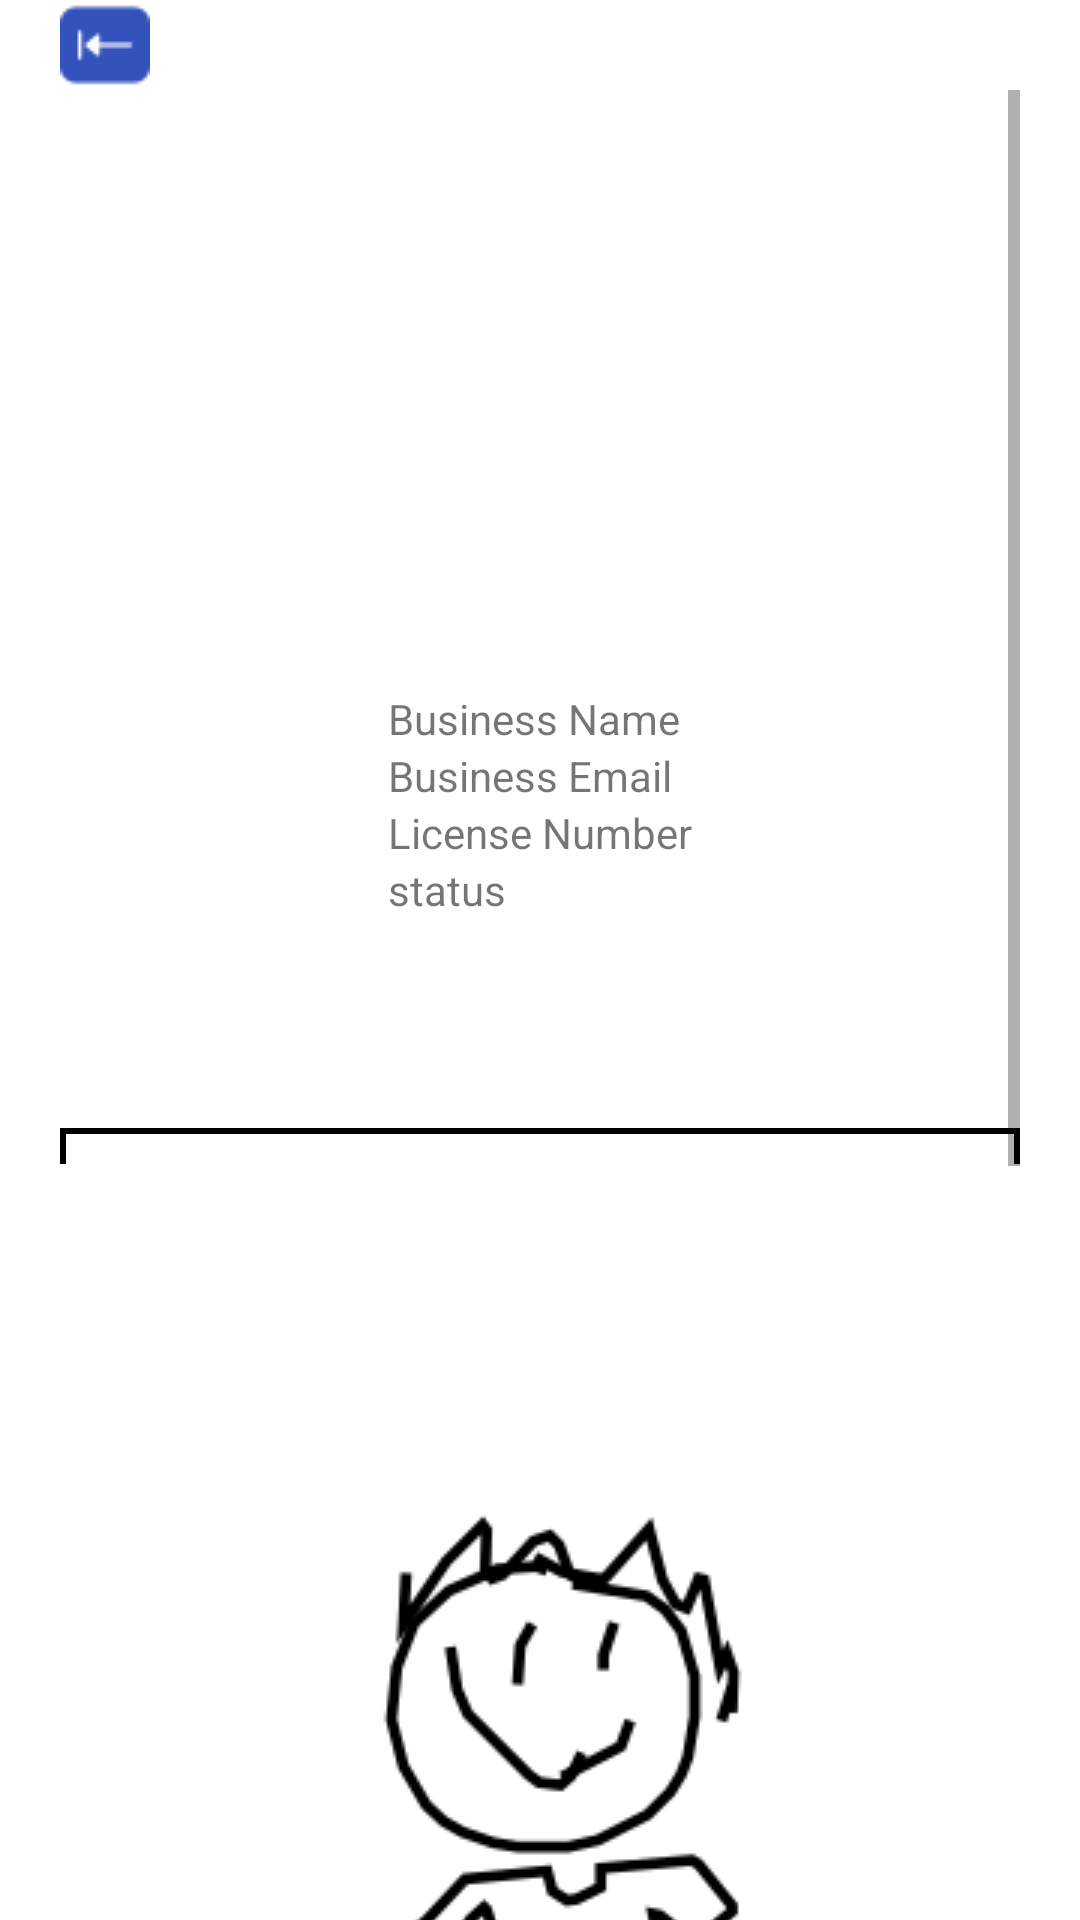

Screen size 1080x1920. Icon name, then its center in pixels as point (x, y):
backbutton: point (105, 45)
